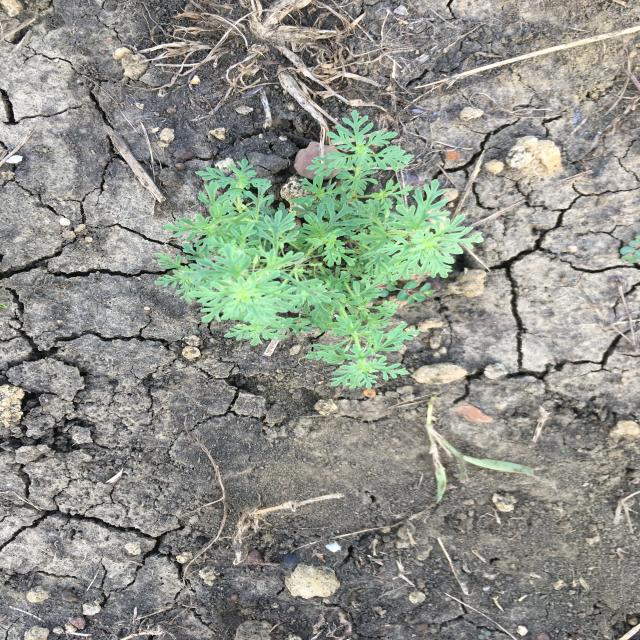Ragweed: (149, 110, 486, 390)
